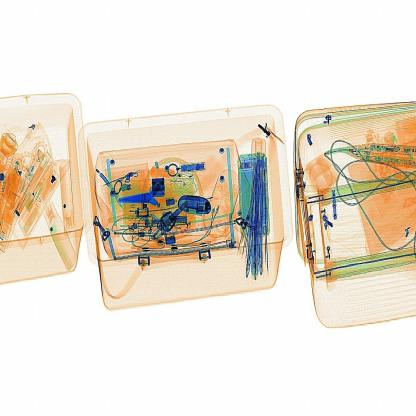gun: (114, 174, 171, 219)
